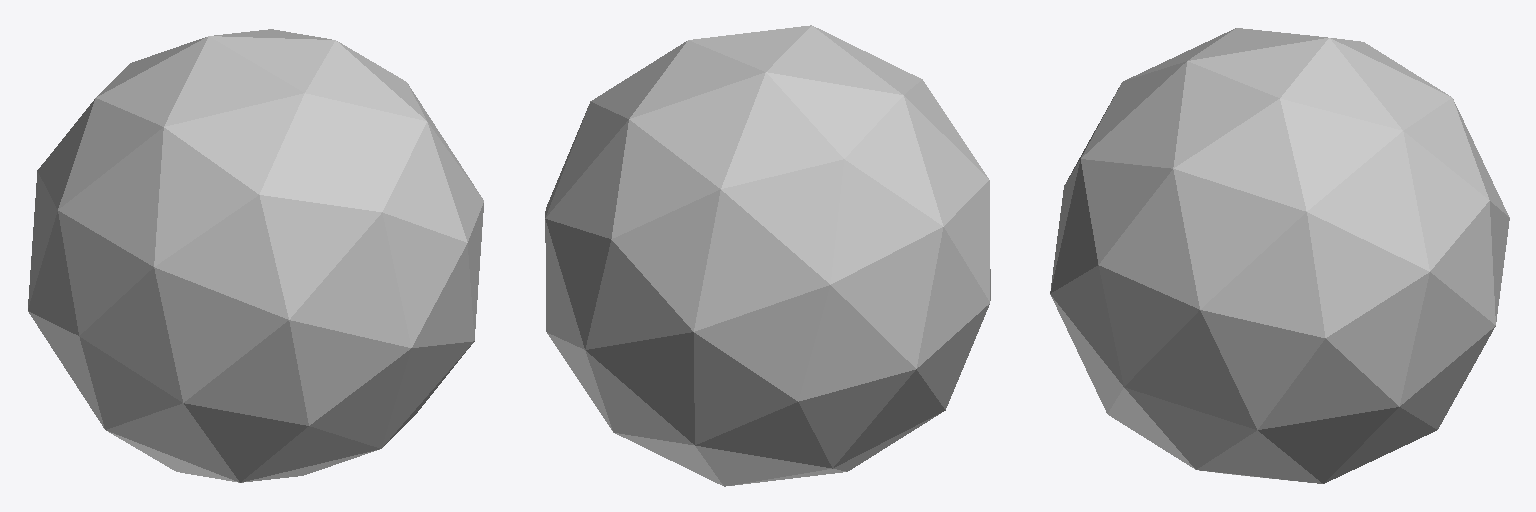
Rendered from ico.obj.
3 views of the same model, side by side, from view 1: azimuth 30°, elevation 25°; view 2: azimuth 150°, elevation 25°; view 3: azimuth 270°, elevation 25° (orthographic).
Bounding box in the file's own units: 1.96 × 1.94 × 1.95.